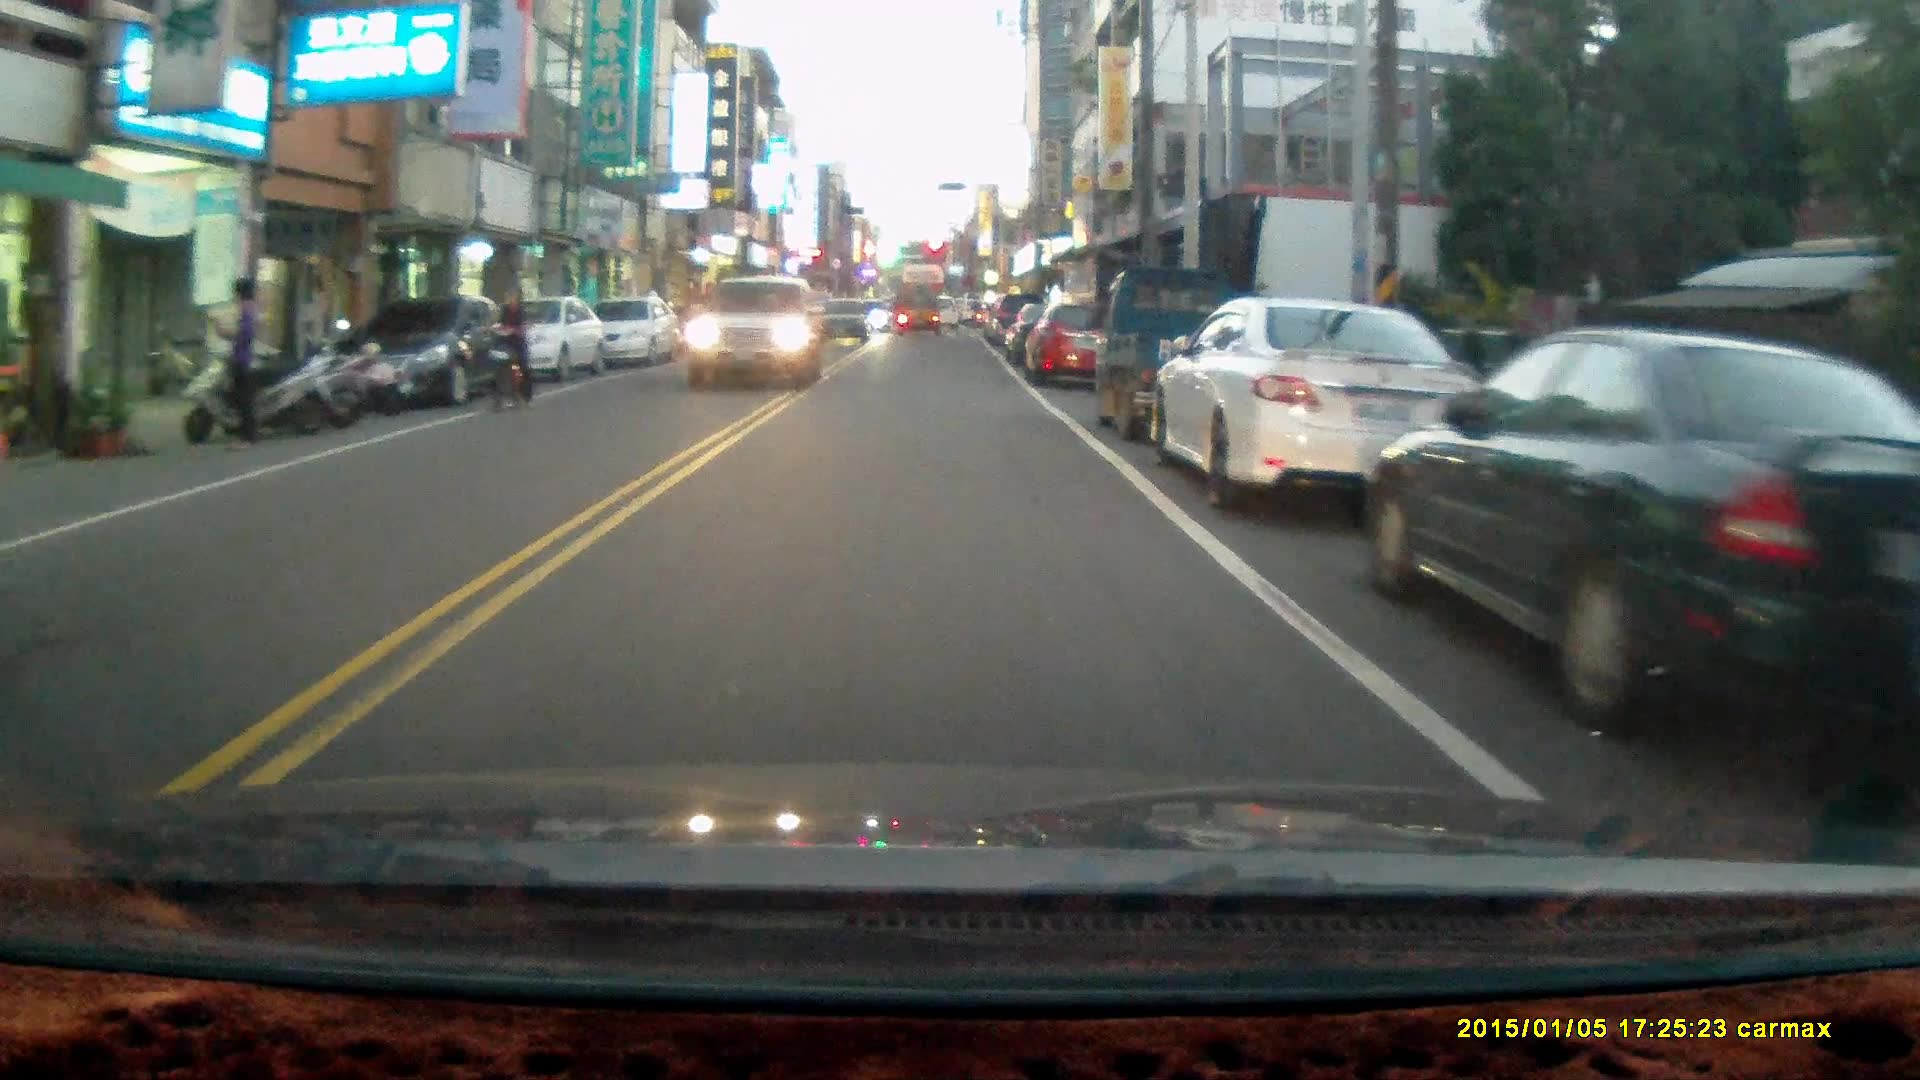pedestrian: (210, 273, 258, 454)
rider: (484, 283, 534, 413)
vehicle: (1364, 323, 1906, 745), (1146, 295, 1490, 511), (1093, 261, 1275, 451), (332, 287, 518, 405), (683, 278, 825, 388), (1025, 303, 1127, 389), (577, 297, 679, 366), (813, 297, 876, 347), (892, 282, 945, 339)
